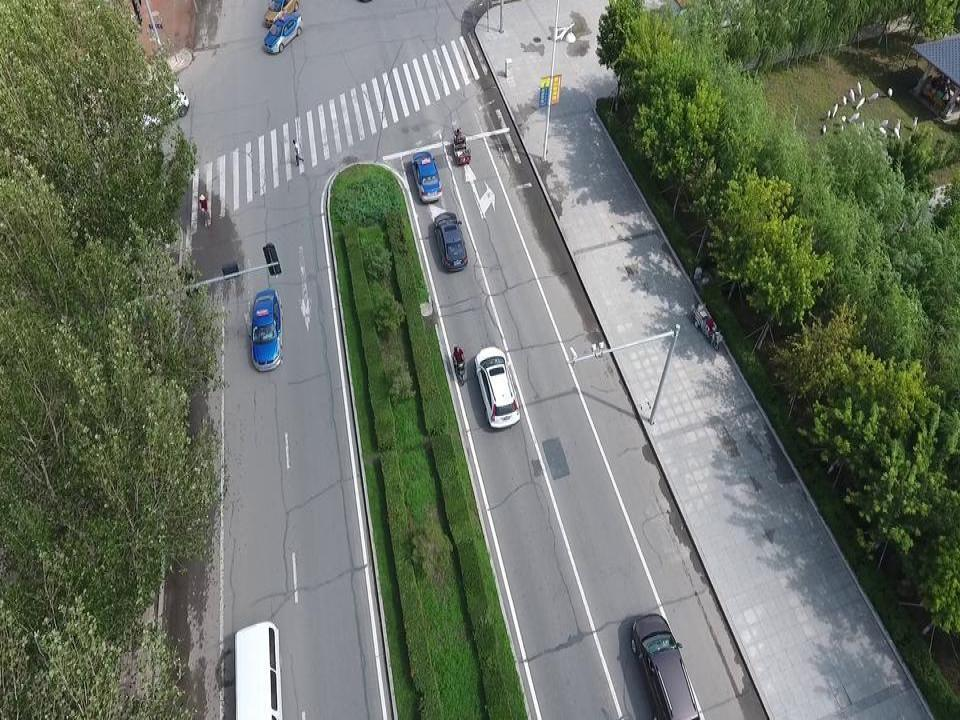car: (629, 613, 702, 720), (232, 624, 288, 720), (472, 343, 520, 429), (247, 288, 283, 371), (133, 81, 188, 127), (433, 210, 468, 270), (411, 149, 443, 203), (264, 10, 302, 54), (261, 0, 304, 28)
